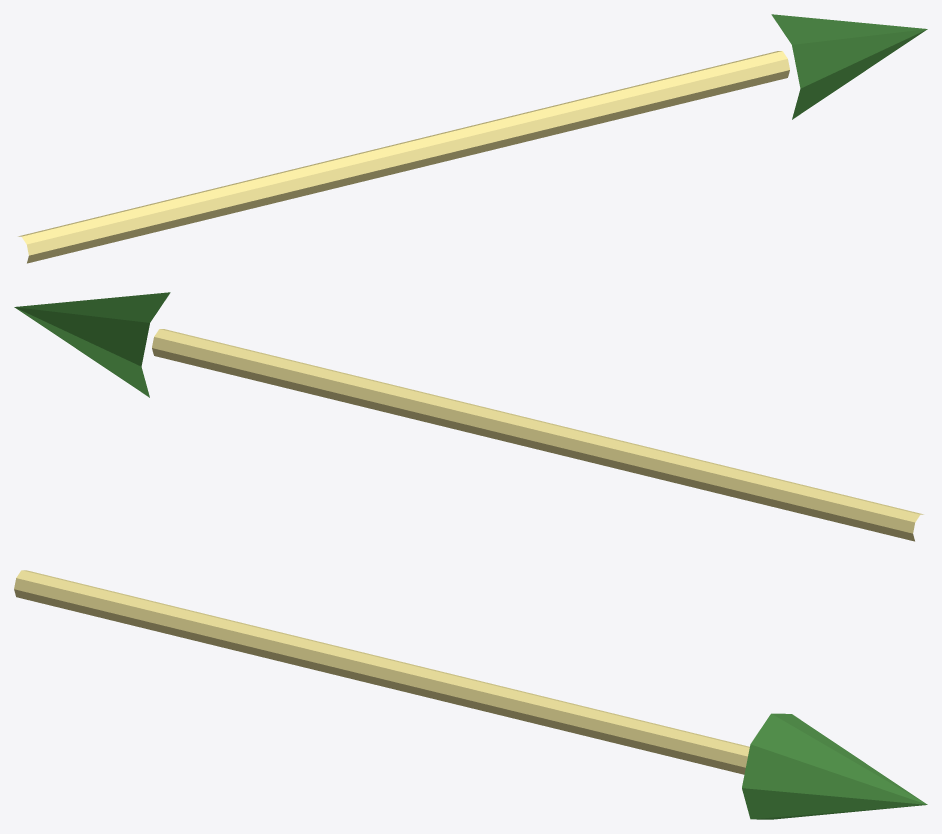
File: enchantress.glb
3 renders of one model, top to bottom at view 1: azimuth 30°, elevation 25°; view 2: azimuth 150°, elevation 25°; view 3: azimuth 330°, elevation 25°, orthographic.
Visible parts, largest first — view 1: enchantress-shaft, enchantress-tip; view 2: enchantress-shaft, enchantress-tip; view 3: enchantress-shaft, enchantress-tip.
Boxes of the visible parts, x1,y1,x2,y2 form: enchantress-shaft: (18, 51, 789, 263); enchantress-tip: (771, 14, 927, 119); enchantress-shaft: (152, 329, 923, 541); enchantress-tip: (14, 292, 170, 397); enchantress-shaft: (14, 570, 749, 774); enchantress-tip: (742, 713, 927, 819).
Size of the model in its own units: 1.97 by 0.22 by 0.22.
